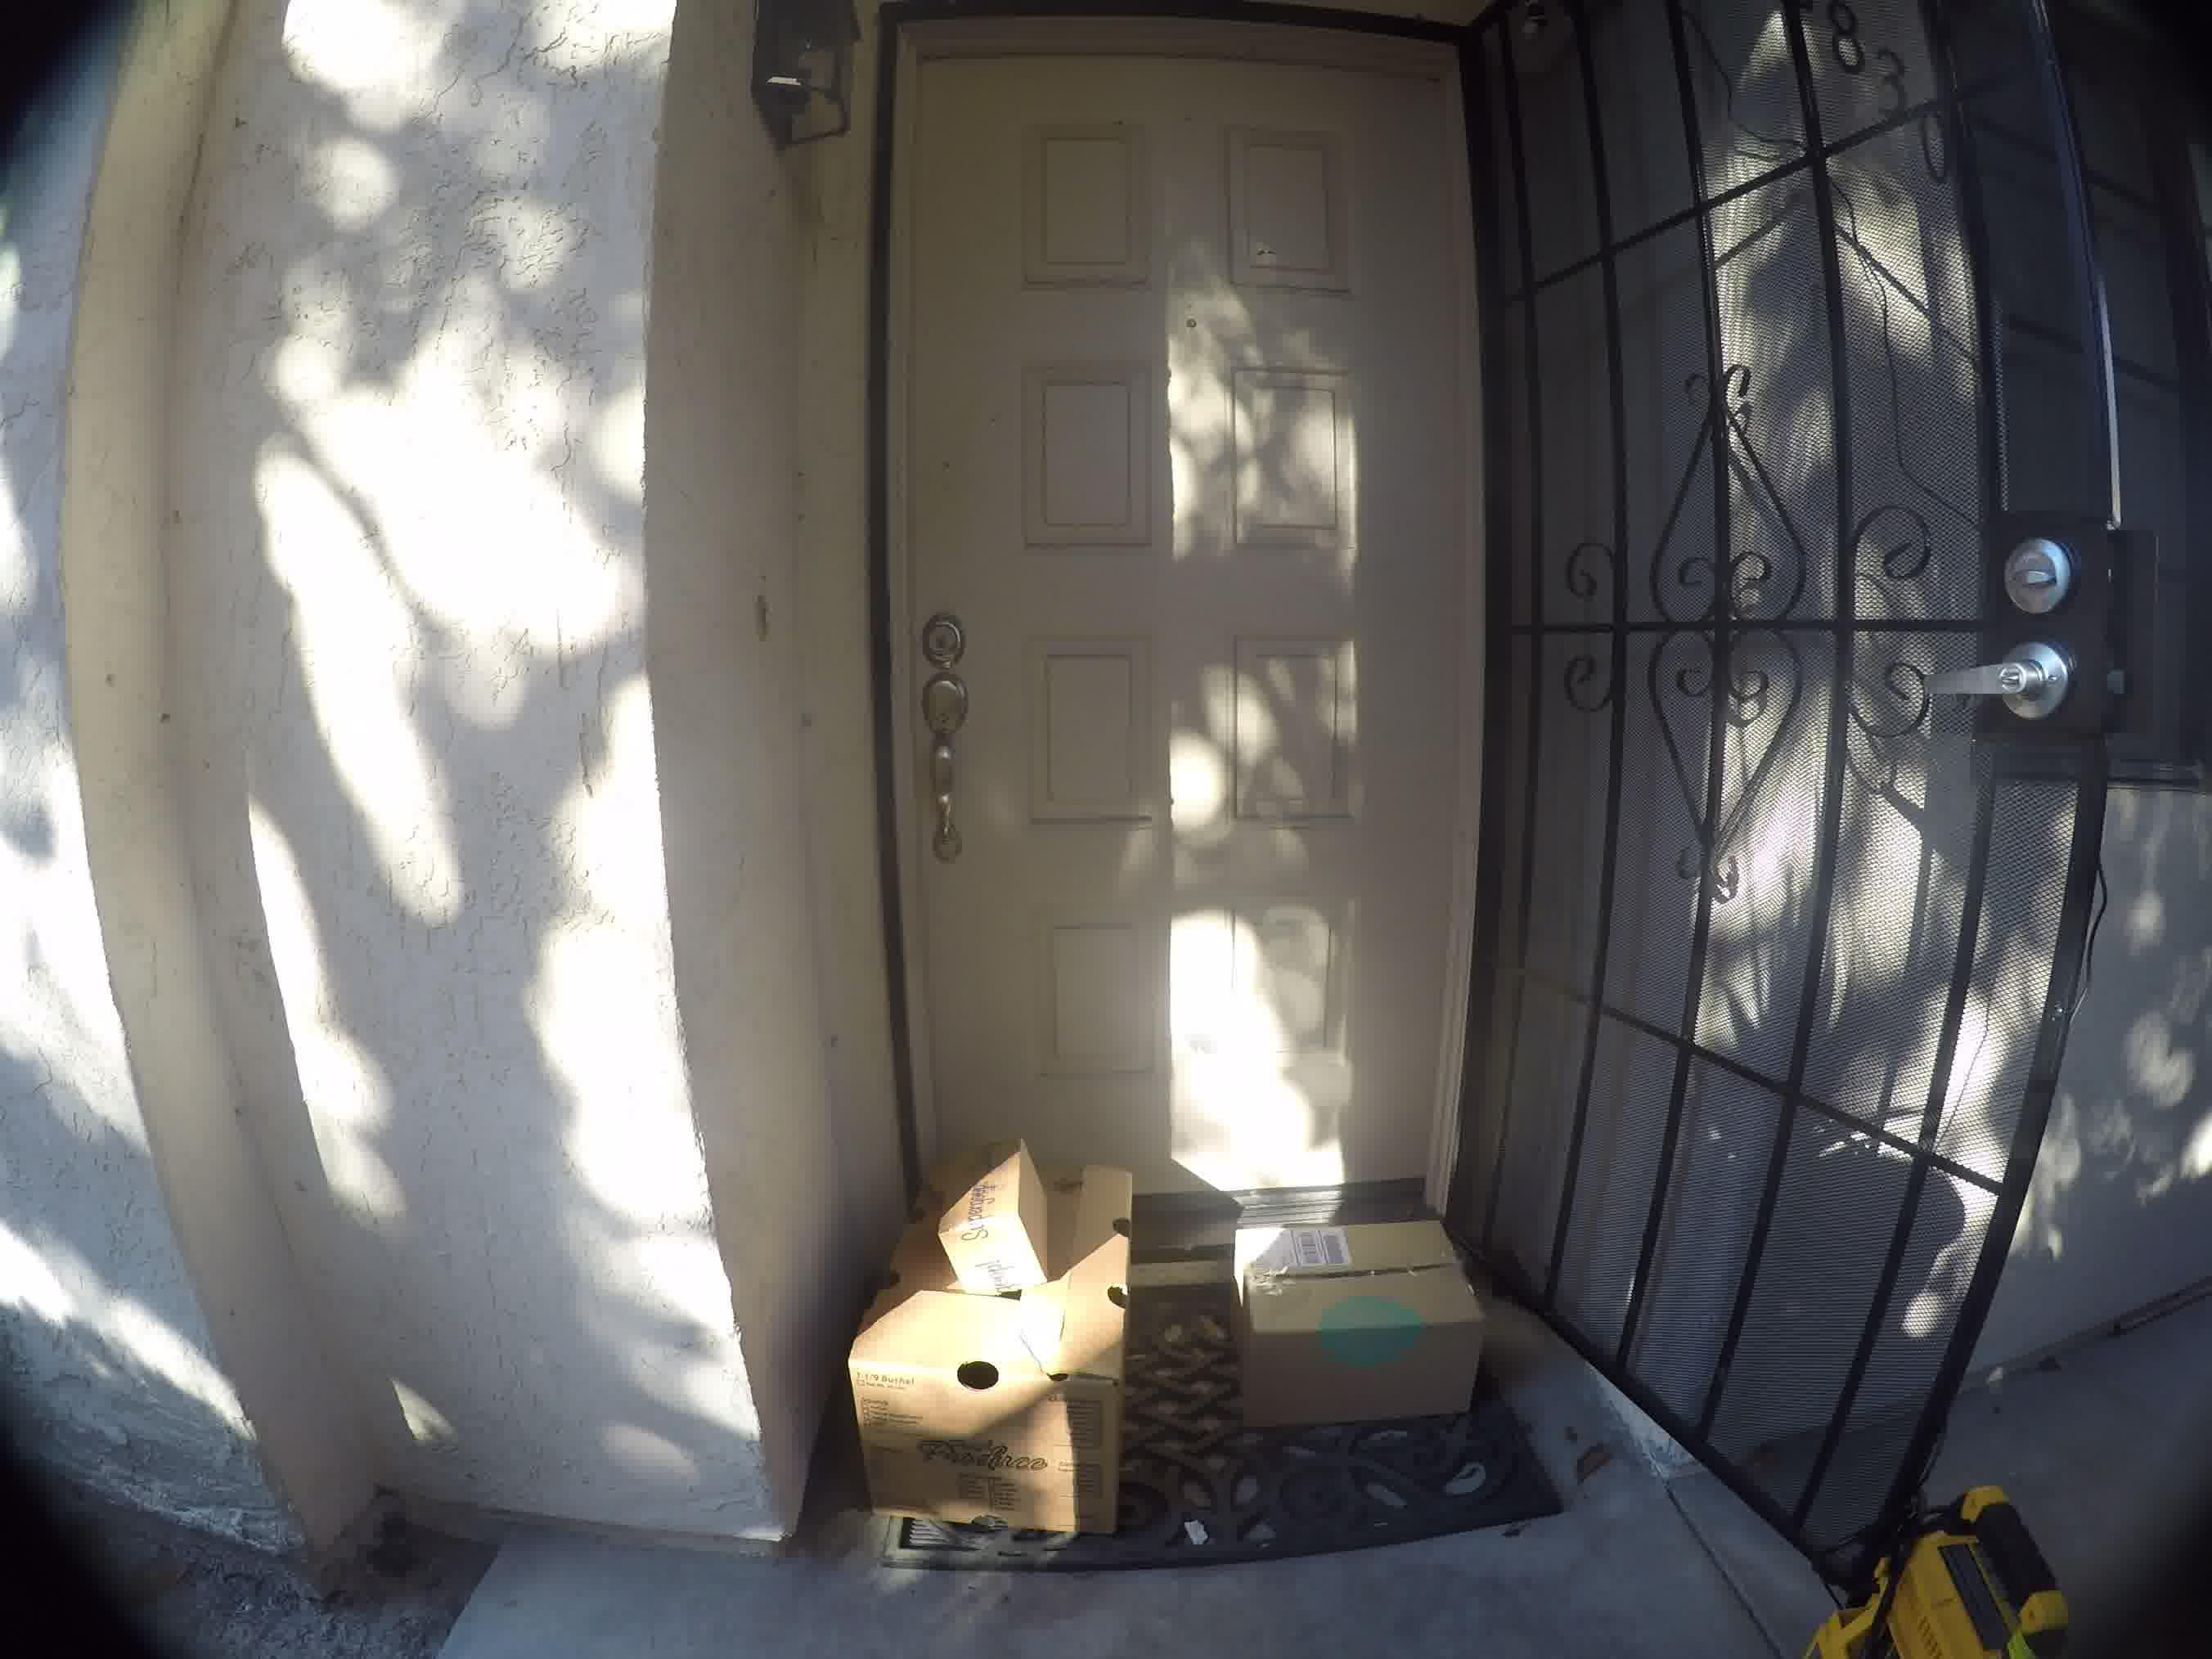box: (859, 1140, 1148, 1579), (1216, 1201, 1505, 1431)
